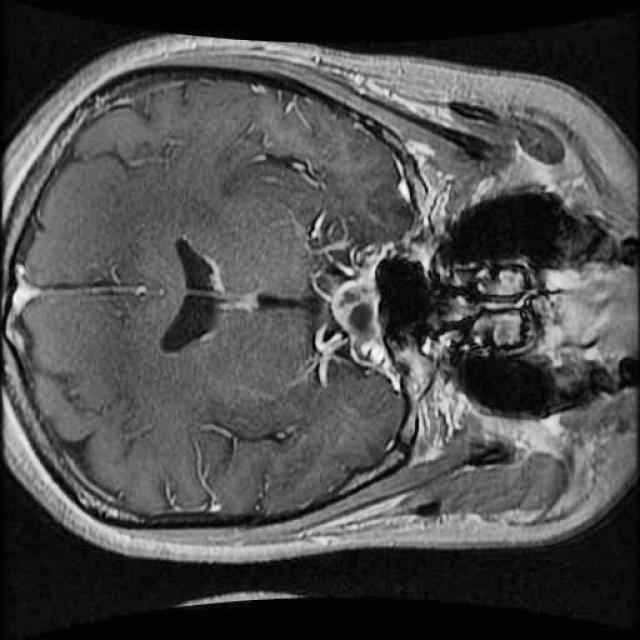Tumor: (324, 258, 394, 368)
